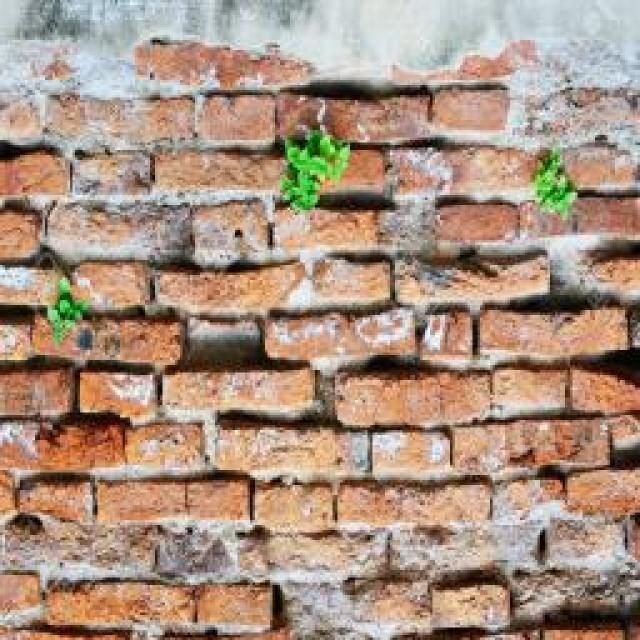Crack: (1, 34, 638, 637)
